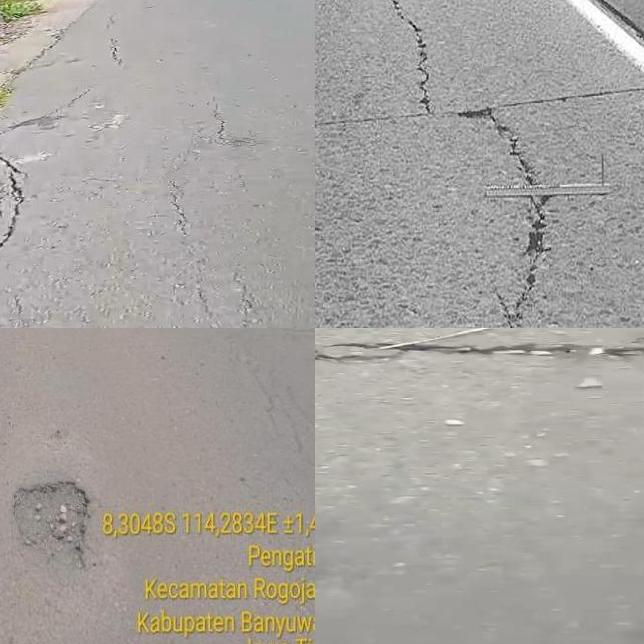Lubang: (8, 486, 90, 570)
Melintang: (315, 328, 644, 381)
Memanjang: (382, 0, 568, 328)
